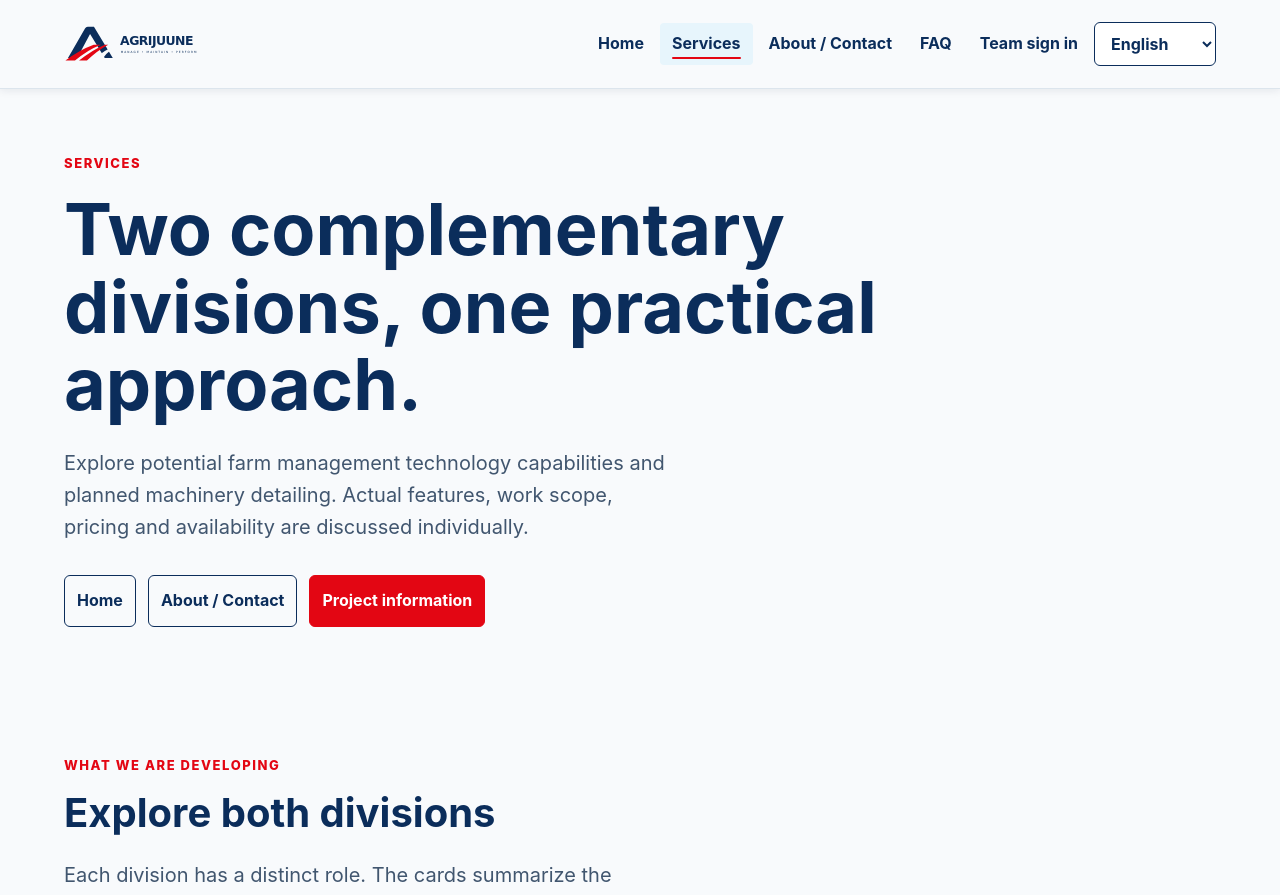
Test: public application shell › localizes the Services page and demo-data notice into Afrikaans
Step 1. Select "Afrikaans" in the dropdown named "Language" → (1155, 44), box x1=1094 y1=22 x2=1216 y2=66
(page scrolled)
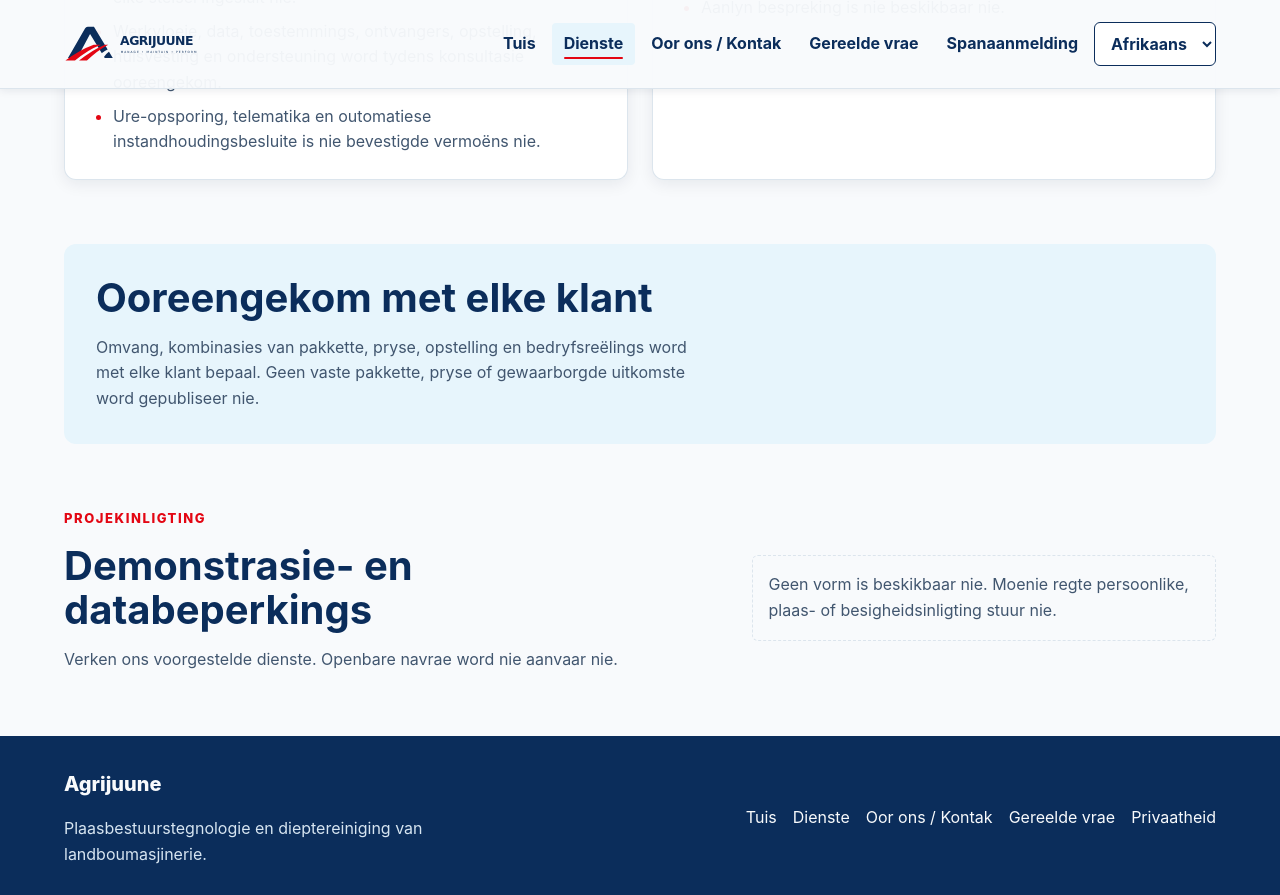
expect the text "Geen vorm is beskikbaar nie. Moenie regte persoonlike" is shown: met, box x1=768 y1=574 x2=1189 y2=620
